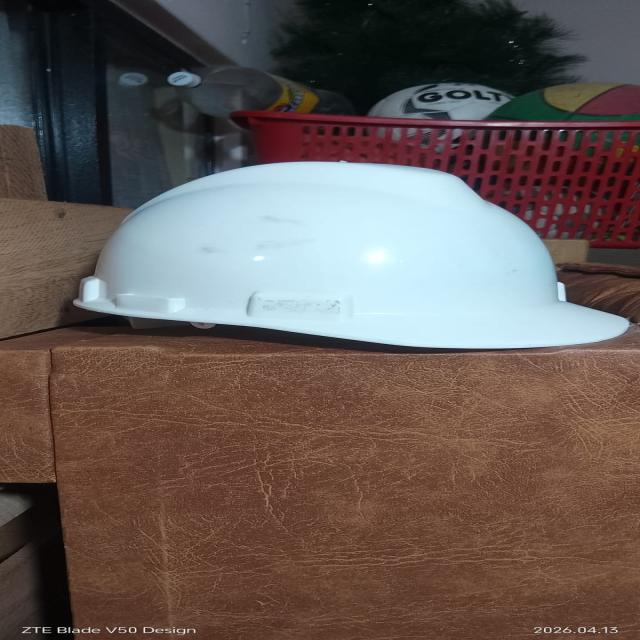casco: (57, 131, 630, 361)
